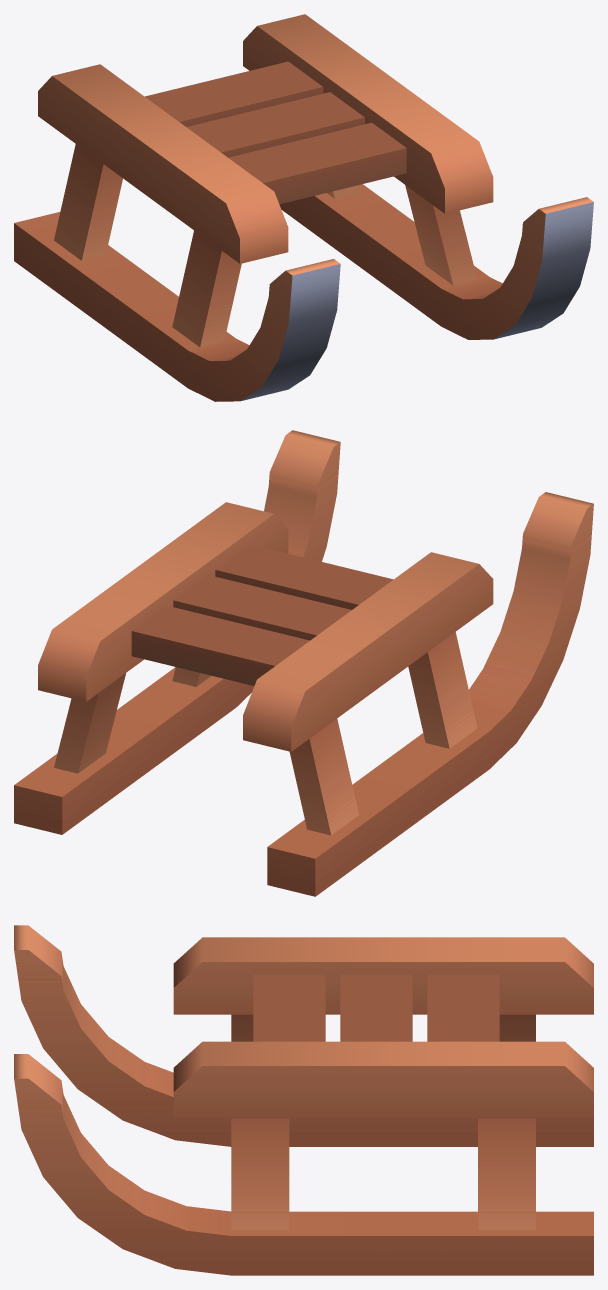
The model's file is sled.glb.
3 views of the same model, one above another, from view 1: azimuth 30°, elevation 25°; view 2: azimuth 150°, elevation 25°; view 3: azimuth 270°, elevation 25° (orthographic). The views are drawn at different scales.
Parts seen in each view (by area): view 1: sled; view 2: sled; view 3: sled.
Part boxes in pixels (<box>): sled: <box>14,14,593,401</box>; sled: <box>14,430,593,896</box>; sled: <box>14,925,593,1275</box>.
Size of the model in its own units: 0.625 by 0.3753 by 1.
1 material, 1 textured.
